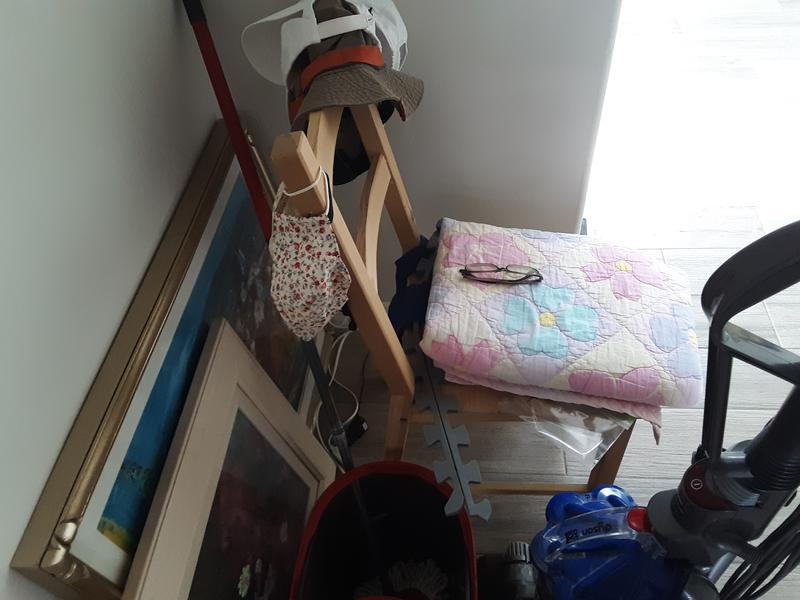glasses: (458, 262, 545, 287)
